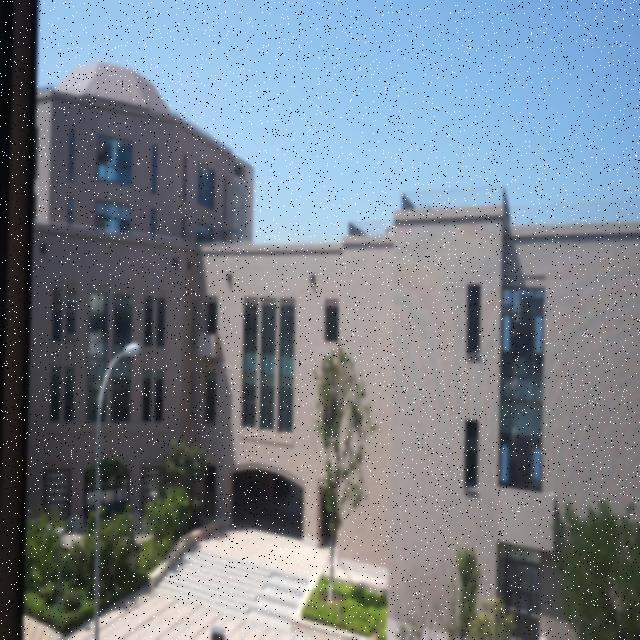UAV: (222, 362, 236, 375)
